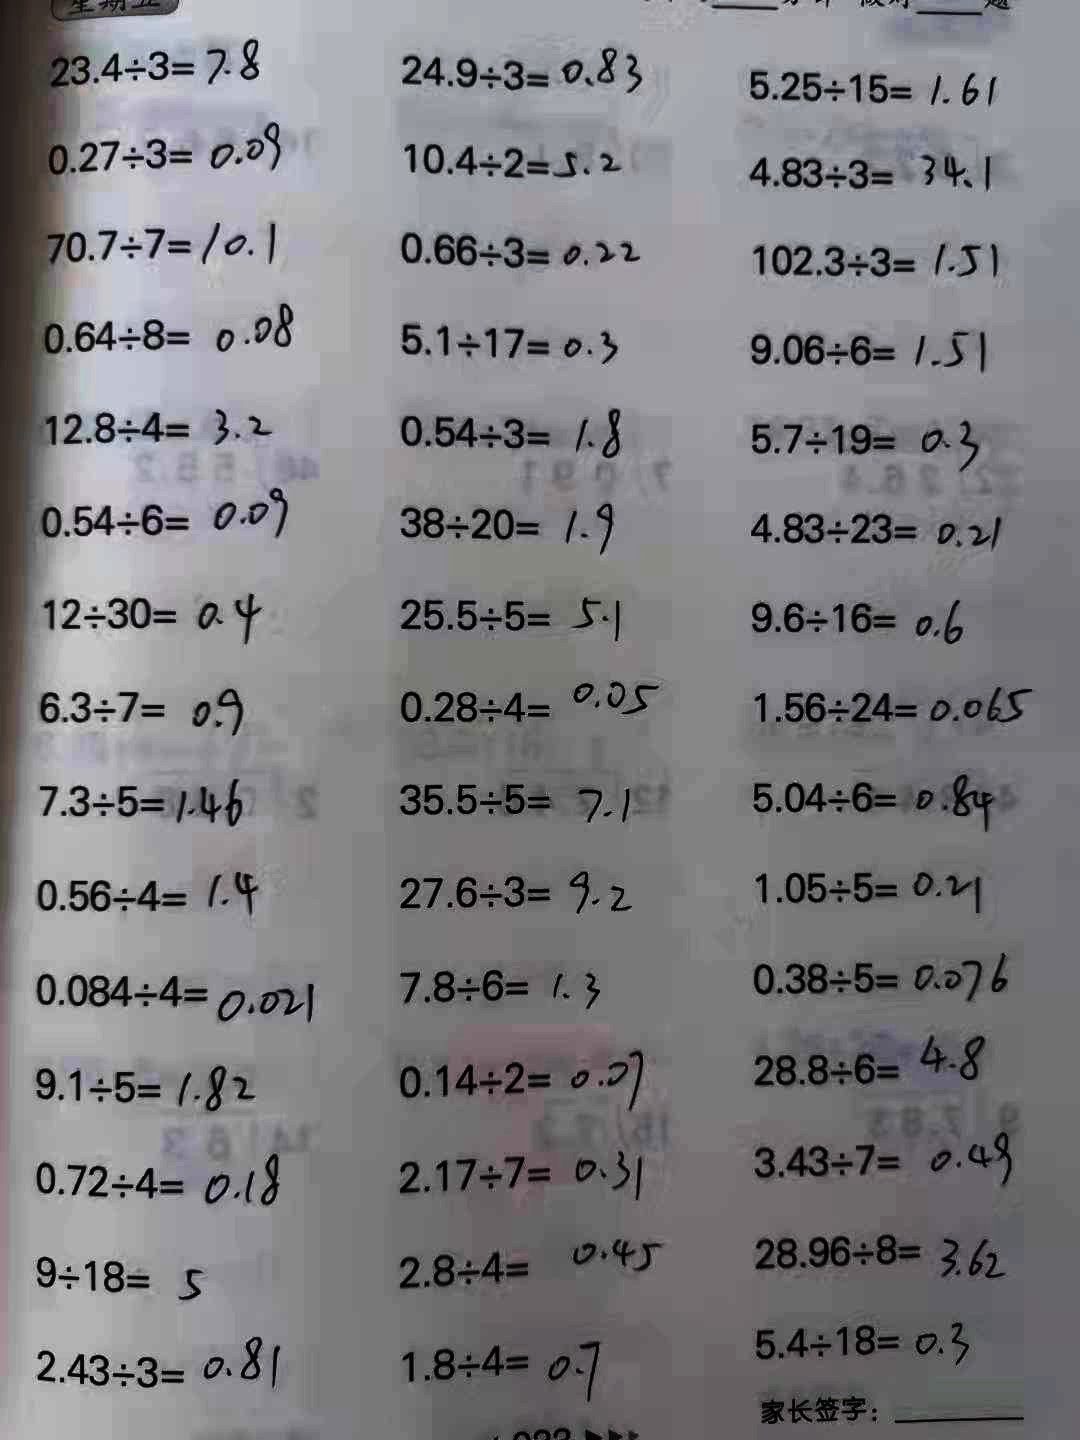equation: (25, 962, 324, 1037), (735, 940, 1020, 1014), (24, 1142, 292, 1219), (744, 1119, 1020, 1194), (732, 1228, 1028, 1297), (383, 1137, 669, 1205), (743, 669, 1043, 734), (386, 1047, 668, 1113), (43, 109, 288, 185), (741, 228, 1010, 297), (743, 498, 1014, 565), (383, 670, 672, 732), (36, 293, 297, 361), (34, 482, 295, 550), (17, 1331, 292, 1396), (386, 308, 646, 376), (740, 413, 999, 481), (29, 579, 269, 653), (388, 769, 651, 836), (382, 214, 652, 279), (391, 494, 636, 565), (388, 401, 632, 469), (744, 771, 1005, 835), (741, 1307, 996, 1372), (36, 206, 282, 273), (389, 1229, 681, 1285), (397, 34, 651, 98), (752, 1033, 1005, 1096), (27, 397, 279, 460), (393, 1336, 618, 1406), (741, 316, 990, 379), (25, 1054, 261, 1120), (386, 861, 649, 920), (29, 863, 269, 927), (737, 63, 1007, 120), (391, 594, 641, 655), (741, 141, 999, 200), (744, 587, 970, 654), (388, 952, 611, 1019), (33, 678, 260, 744), (746, 861, 989, 918), (26, 1240, 205, 1315), (32, 774, 259, 832), (41, 33, 275, 88), (390, 134, 631, 186)
